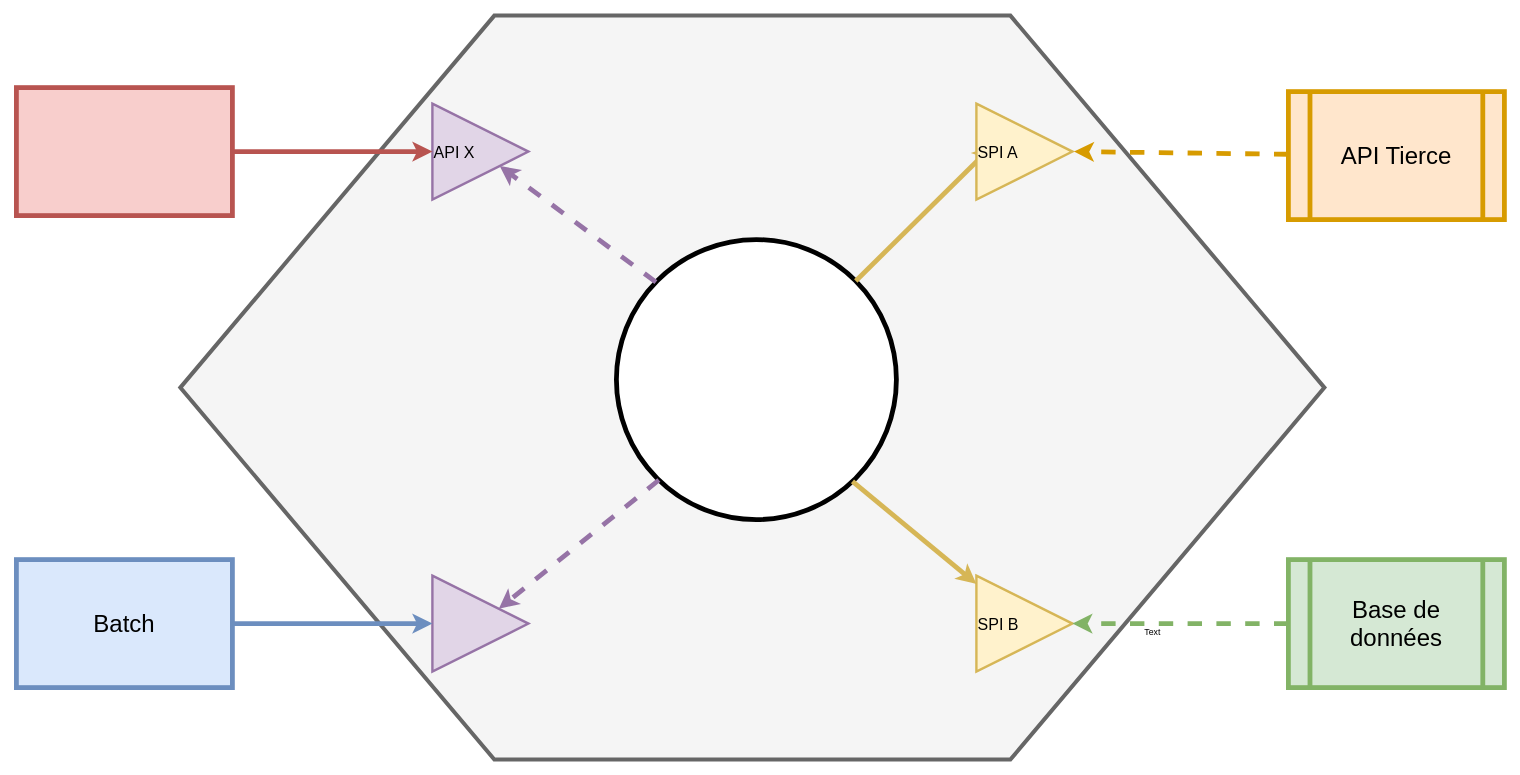
Some shapes in this 1520 by 775 pixel diagram are drawn without their labels. Here are the shapes that lost their labels. From the top down, the box of each, then its label:
(14, 85, 234, 218): Endpoint
(614, 237, 898, 522): Domaine métier
(431, 574, 529, 672): API Y
